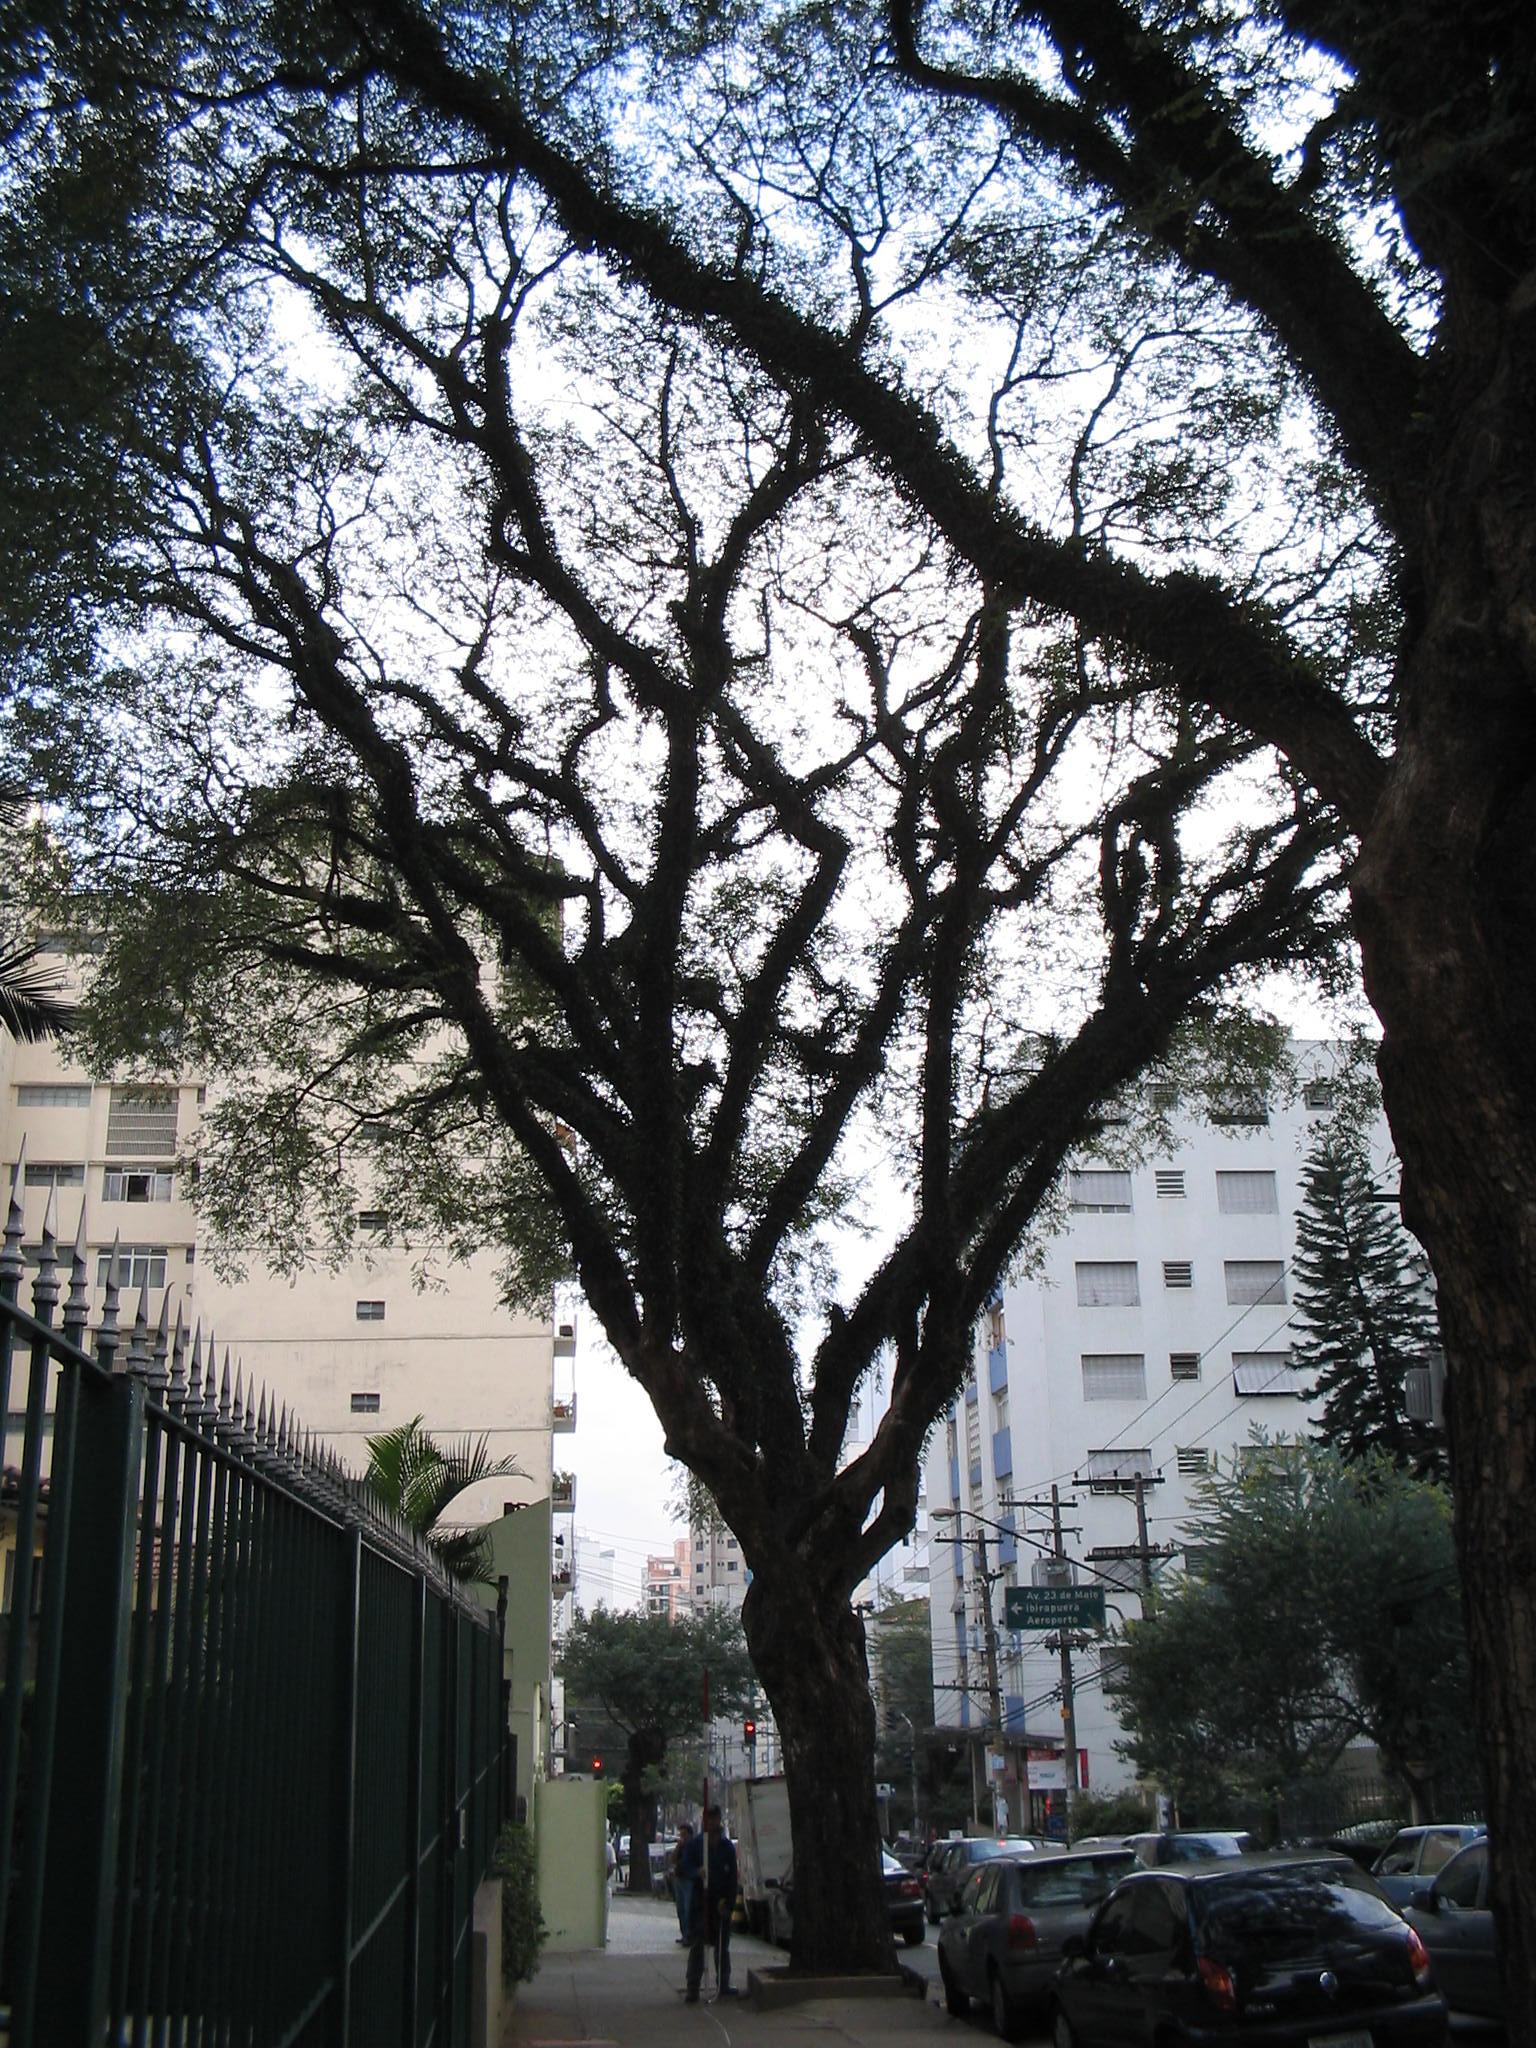stem: (736, 1592, 933, 1966)
stick: (678, 1669, 737, 2004)
tree: (34, 397, 1363, 1972)
